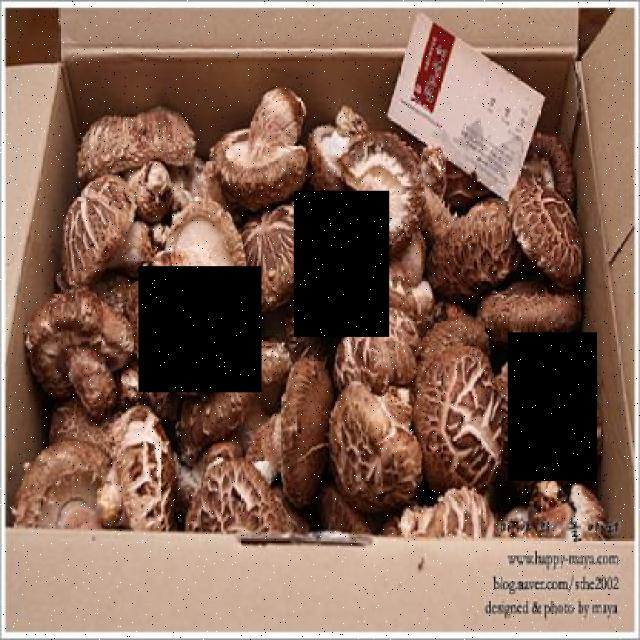Mushroom: (138, 267, 262, 393), (295, 191, 390, 337), (508, 333, 598, 481)
